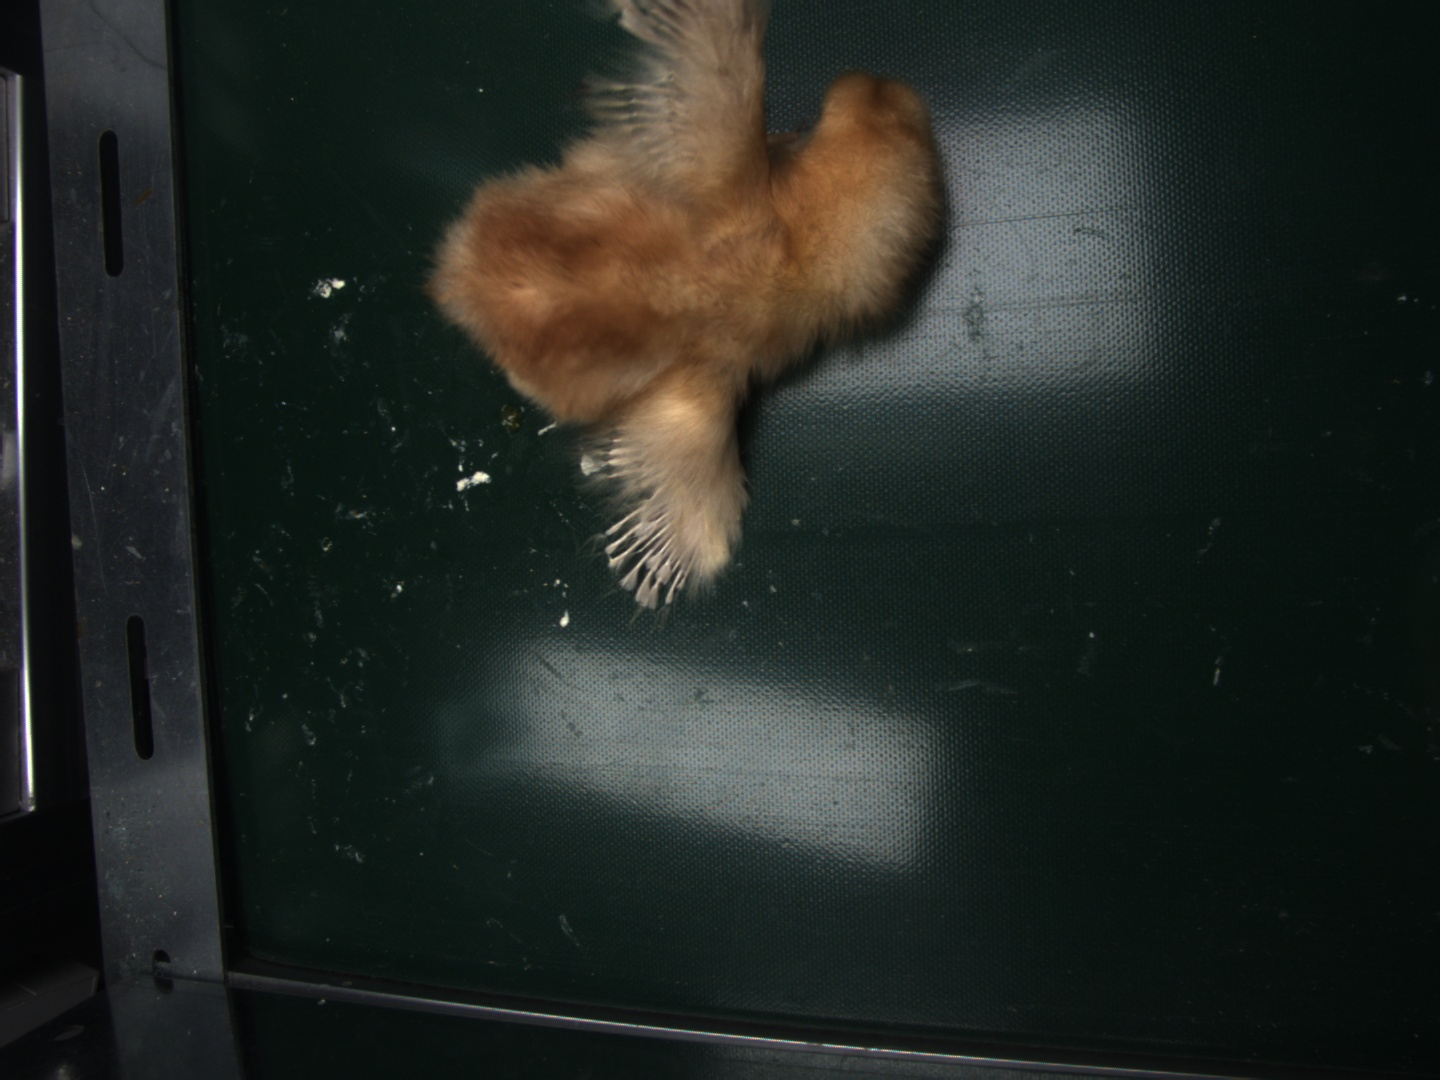female: (605, 498, 693, 607)
